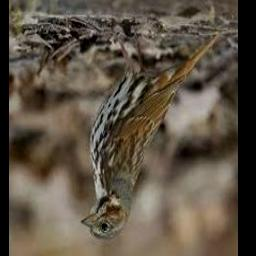Sparrow: (80, 34, 220, 241)
